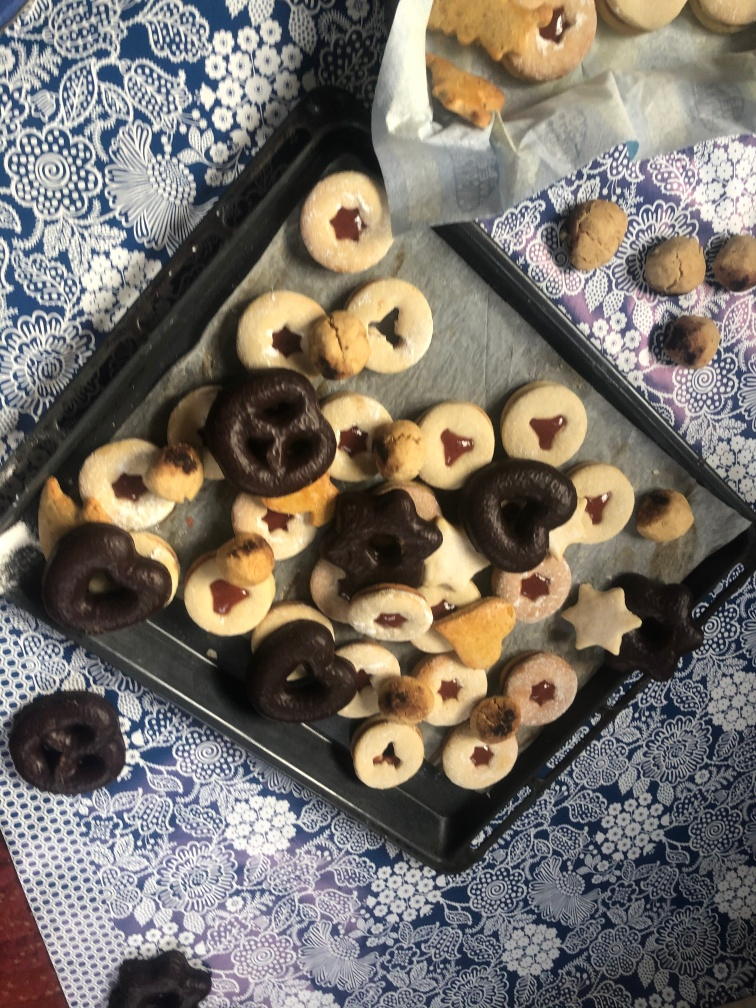bretzel: (209, 369, 333, 500), (7, 682, 128, 795)
christmas shortbread with jam: (300, 165, 394, 275), (352, 278, 430, 374), (79, 432, 162, 520), (511, 1, 598, 83), (503, 380, 585, 464), (239, 289, 319, 370), (419, 394, 496, 474), (185, 563, 280, 625), (574, 455, 634, 547), (231, 493, 314, 558), (349, 722, 430, 787), (506, 652, 579, 724), (324, 393, 383, 479), (444, 724, 519, 783), (350, 589, 432, 641), (422, 656, 482, 723), (499, 561, 565, 621)
heart: (47, 519, 170, 643), (468, 458, 580, 573), (241, 617, 357, 727)
santa claus: (427, 1, 551, 64)
snowball: (633, 229, 705, 294), (651, 307, 719, 373), (567, 198, 627, 272), (706, 233, 755, 295)
star: (310, 473, 440, 600), (589, 575, 704, 692), (555, 582, 642, 665)
